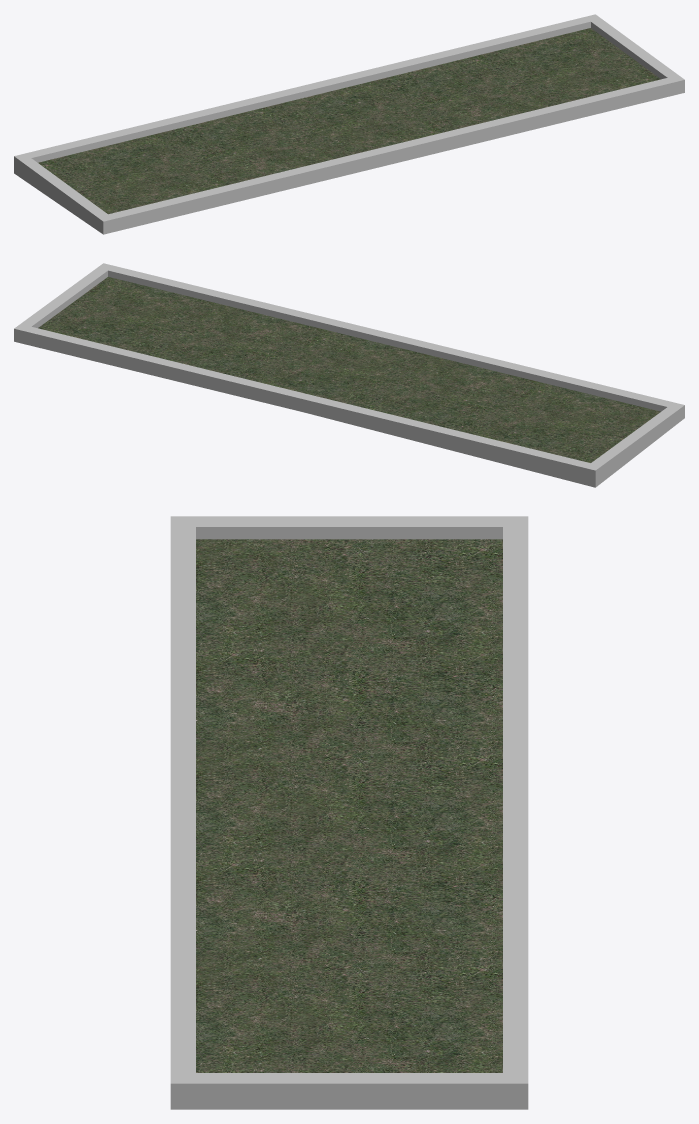
Rendered from Flowerbed-07c.fbx.
The picture shows the model from 3 angles, top to bottom: view 1: azimuth 30°, elevation 25°; view 2: azimuth 150°, elevation 25°; view 3: azimuth 270°, elevation 25°; orthographic projection. The views are drawn at different scales.
Visible parts, largest first — view 1: Flowerbed-07c-Grass, Flowerbed-07c; view 2: Flowerbed-07c-Grass, Flowerbed-07c; view 3: Flowerbed-07c-Grass, Flowerbed-07c.
Boxes of the visible parts, x1,y1,x2,y2 form: Flowerbed-07c-Grass: (38,28,660,214); Flowerbed-07c: (14,14,684,234); Flowerbed-07c-Grass: (38,277,660,462); Flowerbed-07c: (14,263,684,487); Flowerbed-07c-Grass: (196,539,502,1072); Flowerbed-07c: (170,516,528,1109).
Bounding box in the file's own units: 8.68 × 0.2455 × 2.31.
